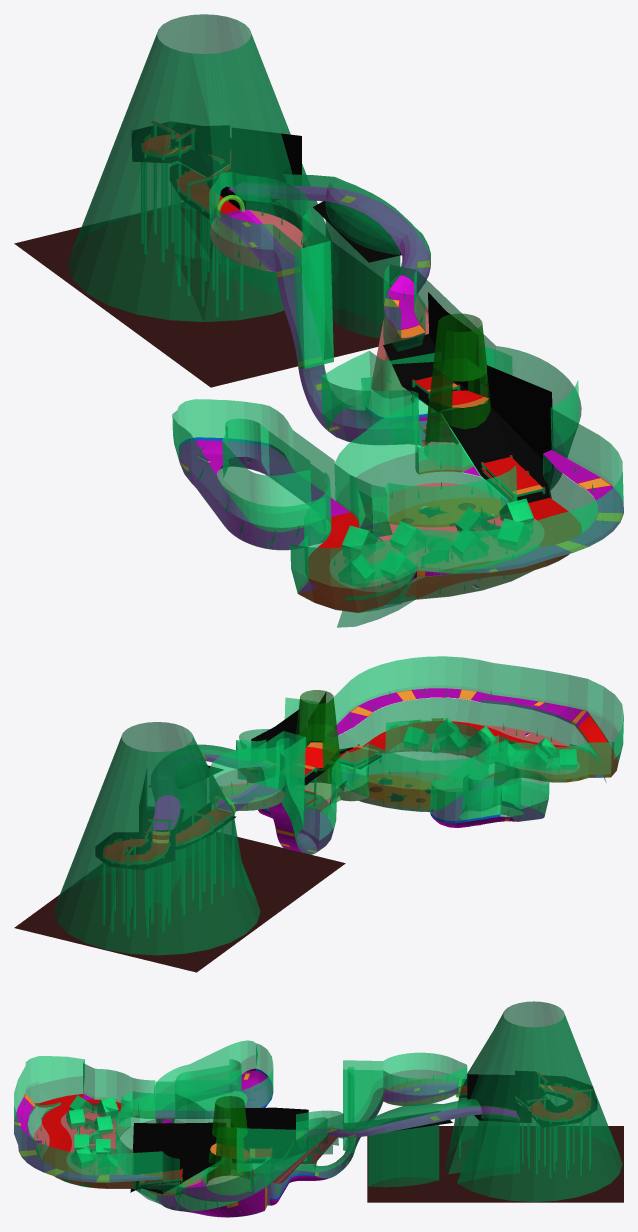
File: alpine.obj
3 renders of one model, top to bottom at view 1: azimuth 30°, elevation 25°; view 2: azimuth 150°, elevation 25°; view 3: azimuth 270°, elevation 25°, orthographic. The views are drawn at different scales.
Visible parts, largest first — view 1: wall_0c_F802c, wall_0d_F000d, fall_10_F0050, fall_10_F0010, road_00_F00a0, wall_0c_F806c, offroad_04_F00a4, road_00_F0080, wall_0c_F800c, road_00_F0040, wall_0c_F80cc, offroad_05_F0005 (+1 smaller); view 2: wall_0c_F802c, wall_0d_F000d, fall_10_F0050, wall_0c_F806c, road_00_F00a0, road_00_F0080, fall_10_F0010, wall_0c_F800c, offroad_04_F00a4, wall_0c_F80cc, offroad_05_F0005, road_00_F0040 (+3 smaller); view 3: wall_0c_F802c, wall_0d_F000d, fall_10_F0050, fall_10_F0010, road_00_F00a0, wall_0c_F806c, road_00_F0080, wall_0c_F800c, offroad_04_F00a4, road_00_F0040, wall_0c_F80cc, wall_0c_F804c (+1 smaller).
Boxes of the visible parts, x1,y1,x2,y2 form: wall_0c_F802c: (68, 14, 597, 627); wall_0d_F000d: (172, 161, 623, 590); fall_10_F0050: (14, 208, 381, 387); fall_10_F0010: (132, 122, 553, 502); road_00_F00a0: (179, 212, 623, 604); wall_0c_F806c: (141, 122, 616, 593); offroad_04_F00a4: (210, 210, 544, 598); road_00_F0080: (141, 121, 581, 612); wall_0c_F800c: (424, 313, 490, 465); road_00_F0040: (216, 186, 430, 294); wall_0c_F80cc: (269, 446, 623, 601); offroad_05_F0005: (388, 498, 505, 526); wall_0c_F802c: (54, 697, 622, 955); wall_0d_F000d: (145, 656, 623, 840); fall_10_F0050: (14, 837, 345, 972); wall_0c_F806c: (103, 688, 576, 936); road_00_F00a0: (217, 688, 607, 854); road_00_F0080: (103, 715, 617, 862); fall_10_F0010: (95, 693, 381, 869); wall_0c_F800c: (295, 690, 343, 805); offroad_04_F00a4: (215, 724, 579, 811); wall_0c_F80cc: (336, 685, 620, 810); offroad_05_F0005: (369, 775, 430, 806); road_00_F0040: (153, 754, 279, 830); wall_0c_F802c: (25, 1001, 622, 1217); wall_0d_F000d: (14, 1040, 546, 1197); fall_10_F0050: (367, 1126, 623, 1202); fall_10_F0010: (130, 1071, 597, 1193); road_00_F00a0: (14, 1070, 456, 1217); wall_0c_F806c: (21, 1073, 592, 1214); road_00_F0080: (34, 1073, 592, 1188); wall_0c_F800c: (206, 1096, 253, 1195); offroad_04_F00a4: (33, 1079, 455, 1185); road_00_F0040: (330, 1083, 518, 1136); wall_0c_F80cc: (14, 1081, 214, 1184); wall_0c_F804c: (63, 1083, 588, 1210).
Size of the model in its own units: 58424 by 39761 by 124054.
